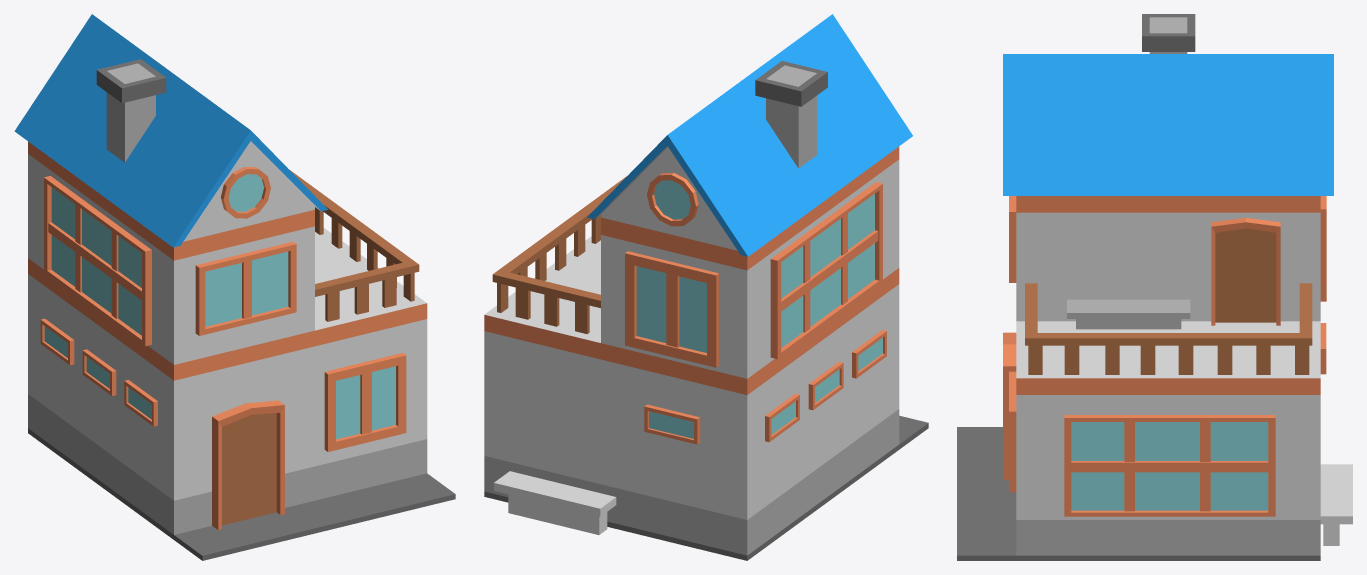
The model's file is new_house1.fbx.
3 renders of one model, left to right at view 1: azimuth 30°, elevation 25°; view 2: azimuth 150°, elevation 25°; view 3: azimuth 270°, elevation 25°, orthographic. The views are drawn at different scales.
Parts seen in each view (by area): view 1: дом1; view 2: дом1; view 3: дом1.
Boxes of the visible parts, <box> form: дом1: <box>14,14,455,560</box>; дом1: <box>484,14,928,560</box>; дом1: <box>957,14,1352,560</box>.
Size of the model in its own units: 210 by 307 by 260.
